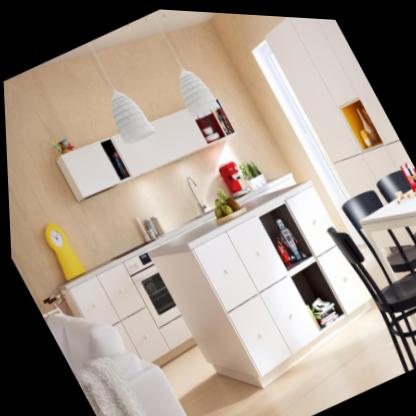Chair: (318, 187, 416, 370)
Sofa: (38, 276, 207, 416)
